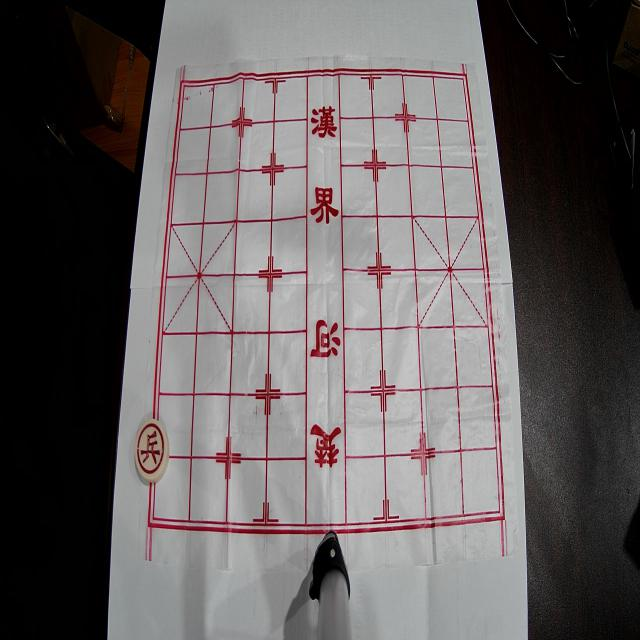red-soldier: (135, 419, 169, 482)
